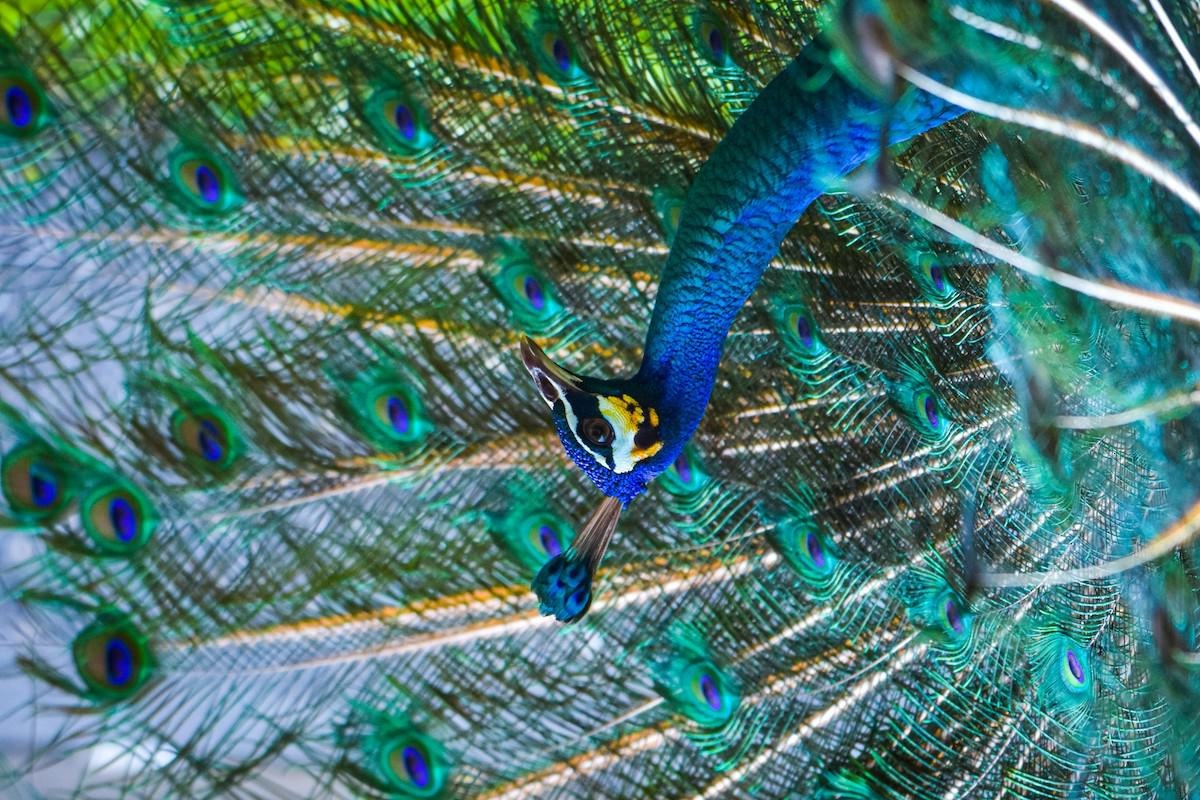peacock: (267, 1, 1200, 631)
